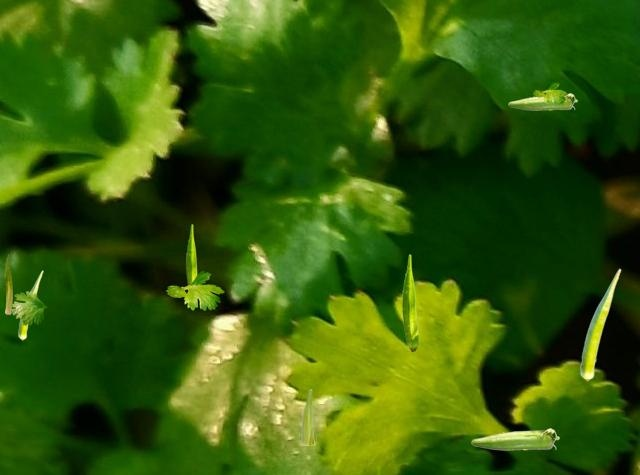okra: (580, 268, 620, 380), (471, 428, 558, 449), (18, 270, 42, 339), (402, 254, 418, 351), (508, 93, 576, 109), (298, 389, 315, 444), (186, 224, 198, 300), (5, 254, 11, 313)
